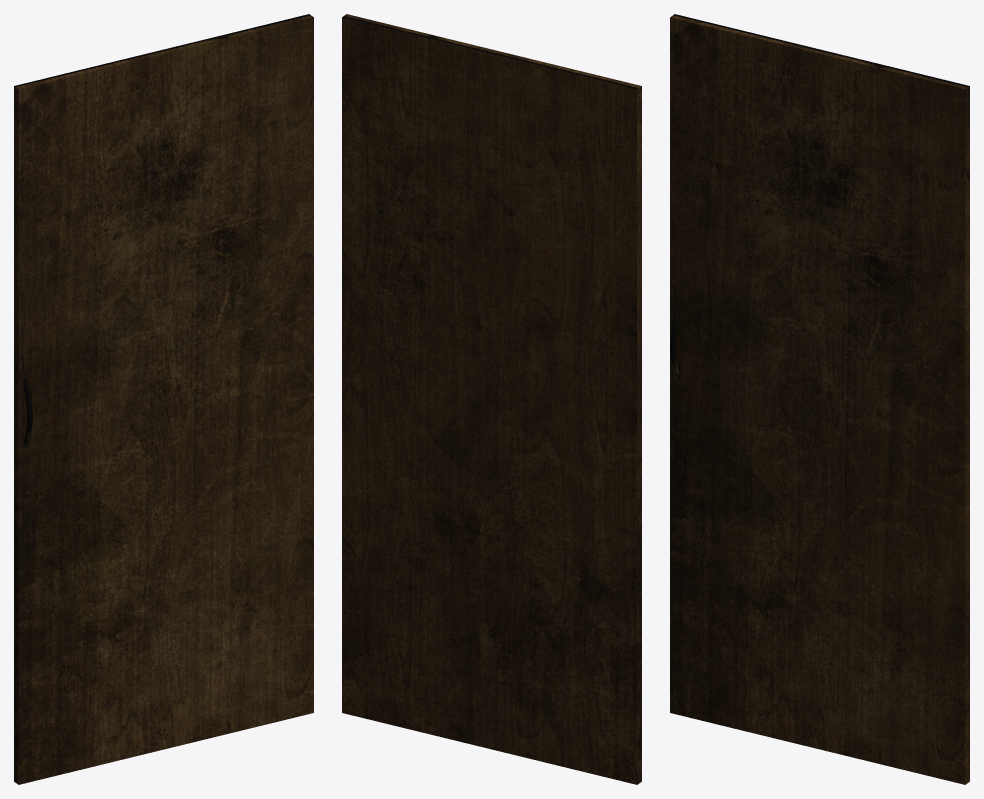
File: closetRightDoor02_b.FBX
3 renders of one model, left to right at view 1: azimuth 30°, elevation 25°; view 2: azimuth 150°, elevation 25°; view 3: azimuth 330°, elevation 25°, orthographic.
Parts seen in each view (by area): view 1: SM_ClosetRightDoor02; view 2: SM_ClosetRightDoor02; view 3: SM_ClosetRightDoor02.
Part boxes in pixels (<box>): SM_ClosetRightDoor02: <box>14,14,313,784</box>; SM_ClosetRightDoor02: <box>342,14,641,784</box>; SM_ClosetRightDoor02: <box>670,14,969,784</box>.
Bounding box in the file's own units: 67.05 × 151 × 3.99.
Materials: 1 (1 with a texture image).
